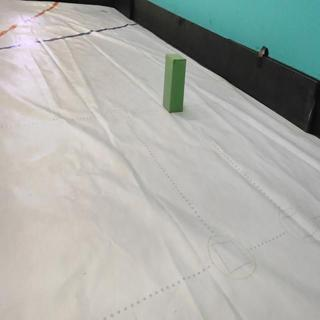greenbox: (161, 51, 188, 114)
